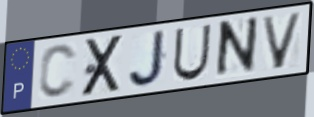C: (36, 42, 79, 101)
J: (126, 28, 168, 90)
N: (212, 14, 261, 82)
U: (171, 23, 214, 83)
V: (260, 11, 305, 72)
X: (79, 32, 126, 99)
